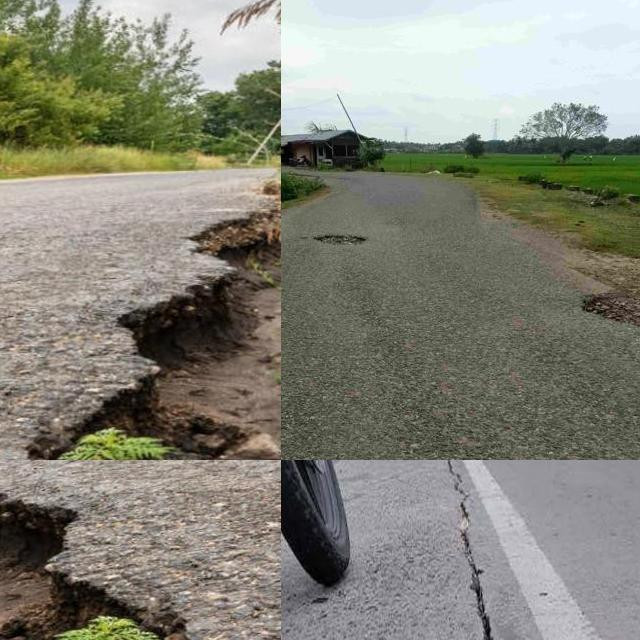Lubang: (303, 227, 375, 255)
Memanjang: (390, 460, 543, 640)
Pinggir: (0, 188, 281, 460), (0, 460, 236, 640), (565, 262, 640, 334)
